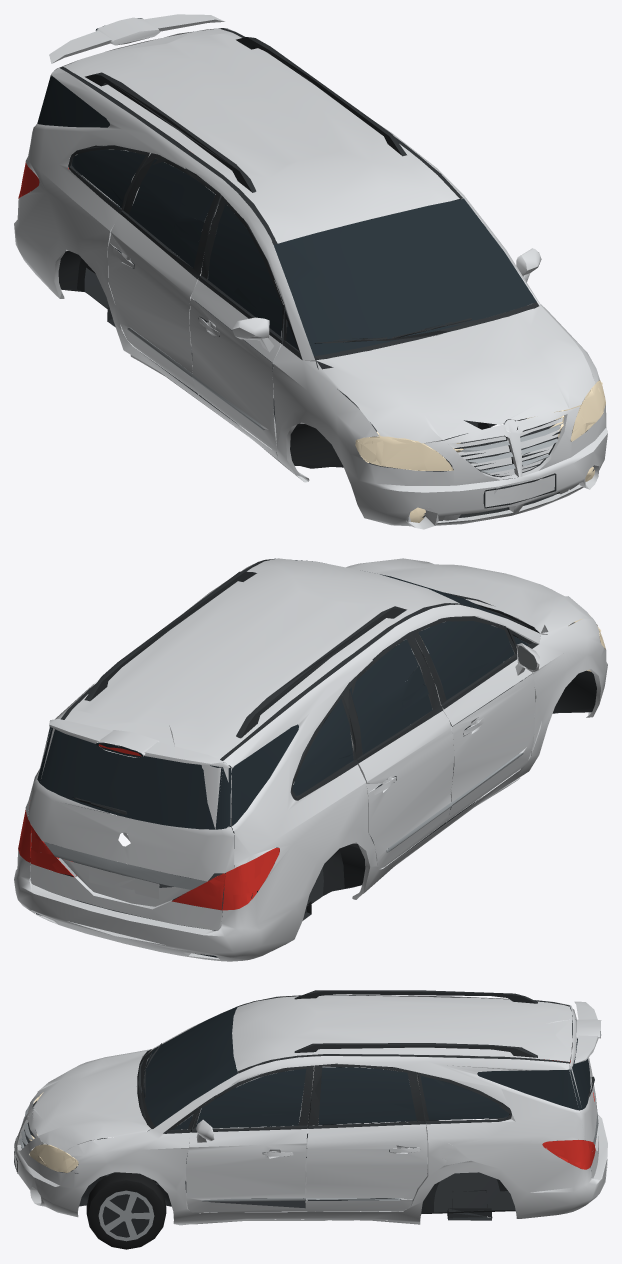
The model's file is van.glb.
3 views of the same model, one above another, from view 1: azimuth 30°, elevation 25°; view 2: azimuth 150°, elevation 25°; view 3: azimuth 270°, elevation 25° (orthographic). The views are drawn at different scales.
Parts seen in each view (by area): view 1: Car body, Car glazing, Car trim, Car headlamps, Car wheel discs; view 2: Car body, Car glazing, Car trim, Car tail lamps, Car wheel discs; view 3: Car body, Car glazing, Car trim, Wheel tyre, Wheel rim, Car tail lamps, Wheel well, Car wheel discs, Car headlamps.
Boxes of the visible parts, x1,y1,x2,y2 form: Car body: [14, 14, 607, 529]; Car glazing: [37, 18, 536, 356]; Car trim: [58, 28, 587, 517]; Car headlamps: [355, 380, 605, 522]; Car wheel discs: [31, 149, 594, 515]; Car body: [14, 558, 607, 961]; Car glazing: [36, 558, 528, 957]; Car trim: [55, 559, 596, 955]; Car tail lamps: [18, 744, 279, 910]; Car wheel discs: [28, 645, 536, 889]; Car body: [14, 994, 607, 1225]; Car glazing: [143, 1005, 600, 1129]; Car trim: [14, 990, 600, 1220]; Wheel tyre: [86, 1172, 166, 1249]; Wheel rim: [98, 1190, 154, 1241]; Car tail lamps: [542, 1059, 595, 1169]; Wheel well: [102, 1190, 151, 1237]; Car wheel discs: [19, 1059, 598, 1201]; Car headlamps: [29, 1092, 78, 1172].
Bounding box in the file's own units: 2.23 × 1.82 × 5.13.
